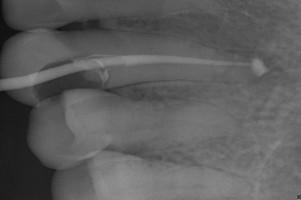Furcation Involvement: (225, 47, 290, 89)
